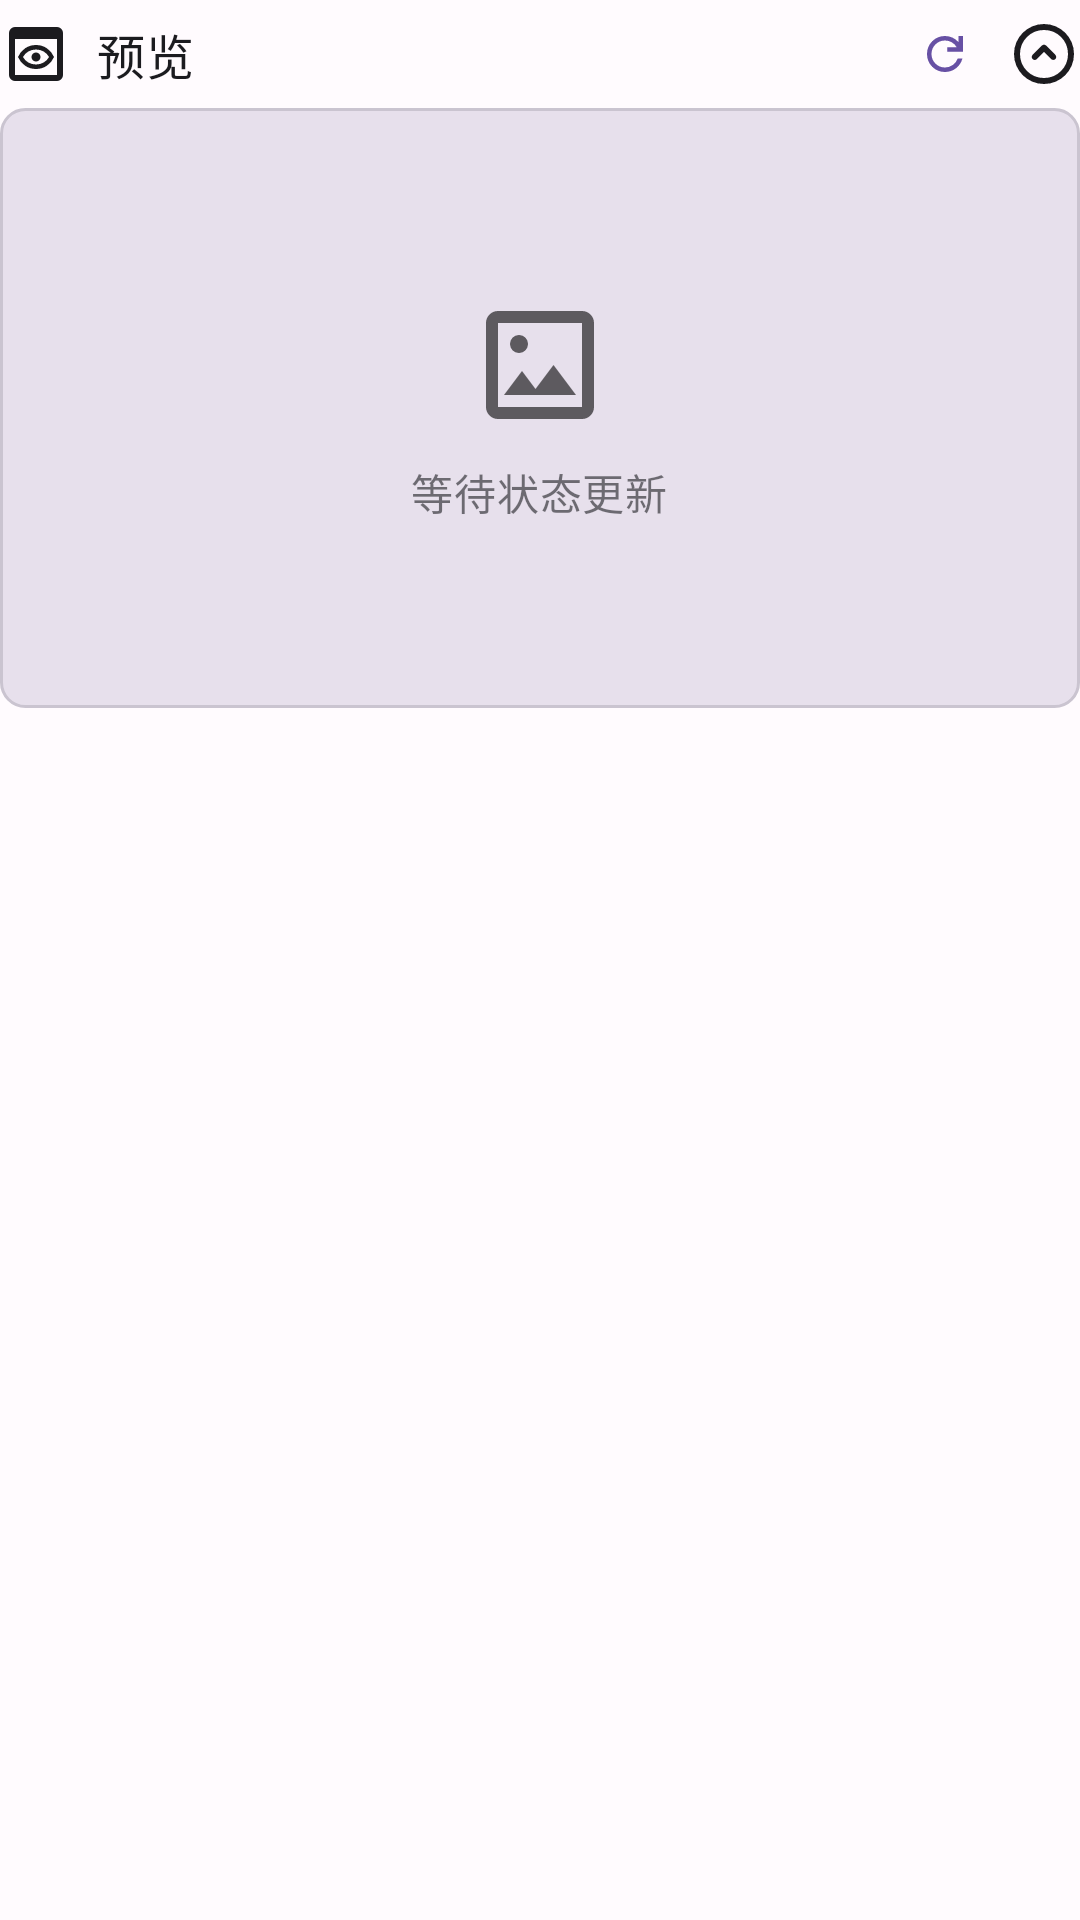

Named icons in this screenshot (1080x1920) and their bounding boxes, {"left": x1, "top": y1, "right": x2, "bottom": y2}:
切换区域: {"left": 1014, "top": 24, "right": 1074, "bottom": 84}
图片占位符: {"left": 486, "top": 311, "right": 594, "bottom": 419}
